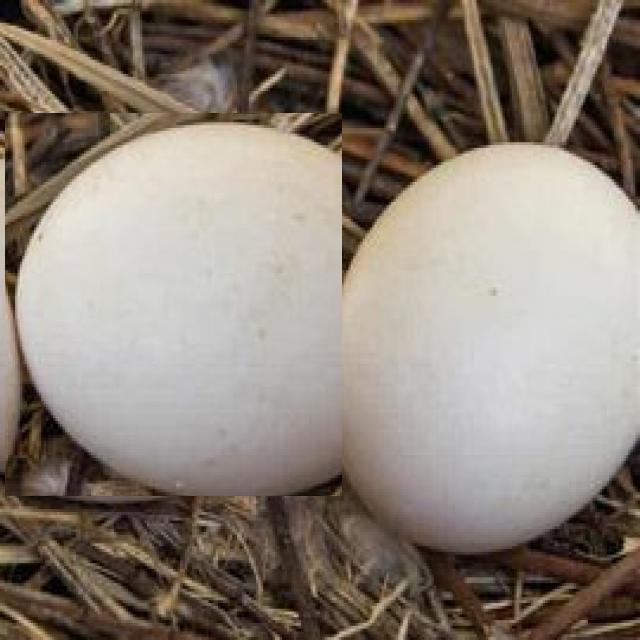Egg: (313, 88, 640, 586), (5, 113, 342, 496)
